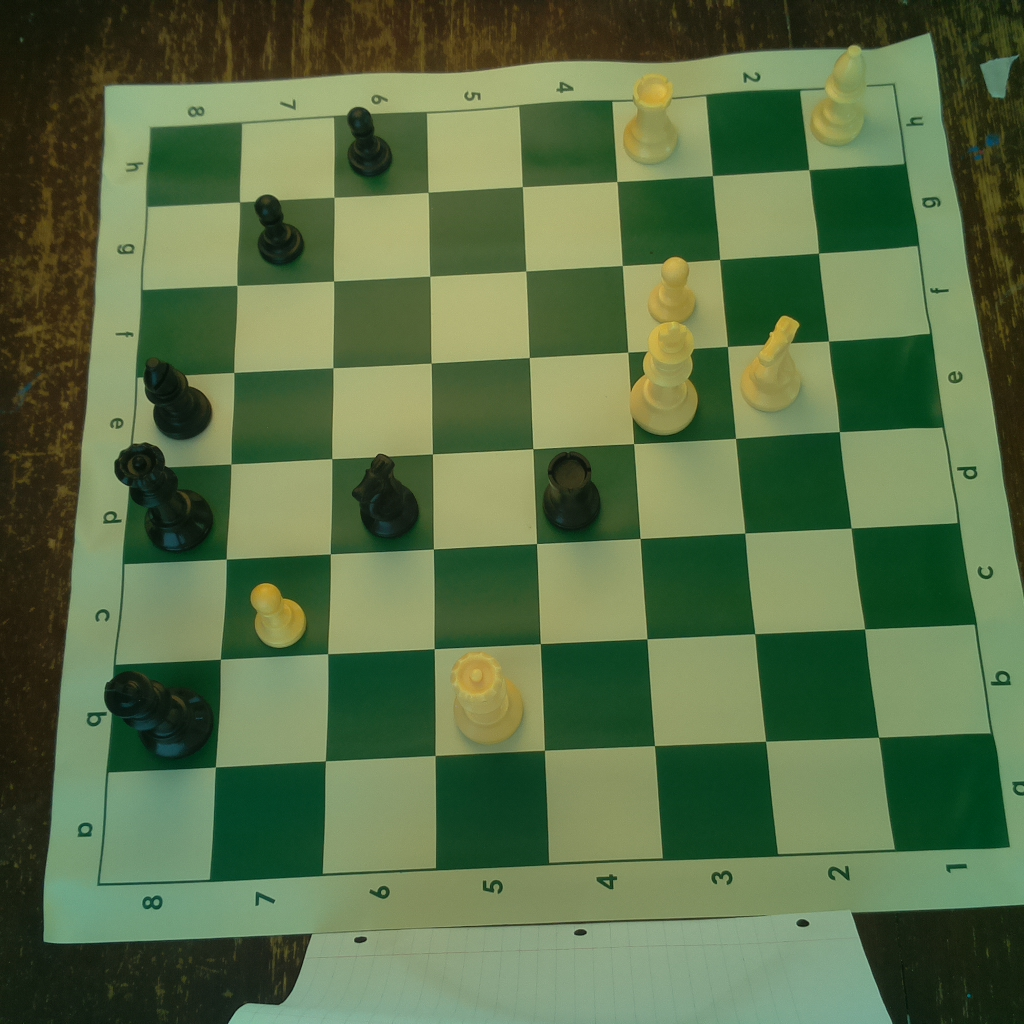black_bishop: (137, 356, 216, 440)
black_king: (102, 669, 215, 758)
black_knight: (347, 444, 423, 541)
black_pawn: (247, 193, 310, 269), (337, 101, 396, 182)
black_queen: (110, 440, 216, 557)
black_rook: (537, 444, 606, 536)
file_a: (101, 734, 1010, 886)
file_b: (108, 626, 992, 771)
file_c: (115, 525, 979, 666)
file_d: (124, 425, 960, 565)
file_e: (128, 332, 945, 467)
file_f: (137, 244, 931, 377)
file_g: (141, 165, 921, 290)
file_h: (147, 90, 906, 208)
outline: (97, 84, 1011, 890)
rank_1: (801, 83, 1011, 851)
rank_2: (706, 88, 896, 853)
rank_3: (611, 95, 781, 858)
rank_4: (521, 99, 664, 862)
rank_5: (428, 106, 550, 874)
rank_6: (321, 110, 438, 874)
rank_7: (212, 117, 332, 883)
rank_8: (98, 122, 242, 883)
white_bishop: (807, 43, 875, 152)
white_king: (628, 318, 698, 435)
white_knight: (740, 312, 811, 414)
white_pawn: (245, 577, 310, 648), (646, 257, 702, 327)
white_queen: (444, 645, 531, 751)
white_rook: (616, 70, 681, 164)
